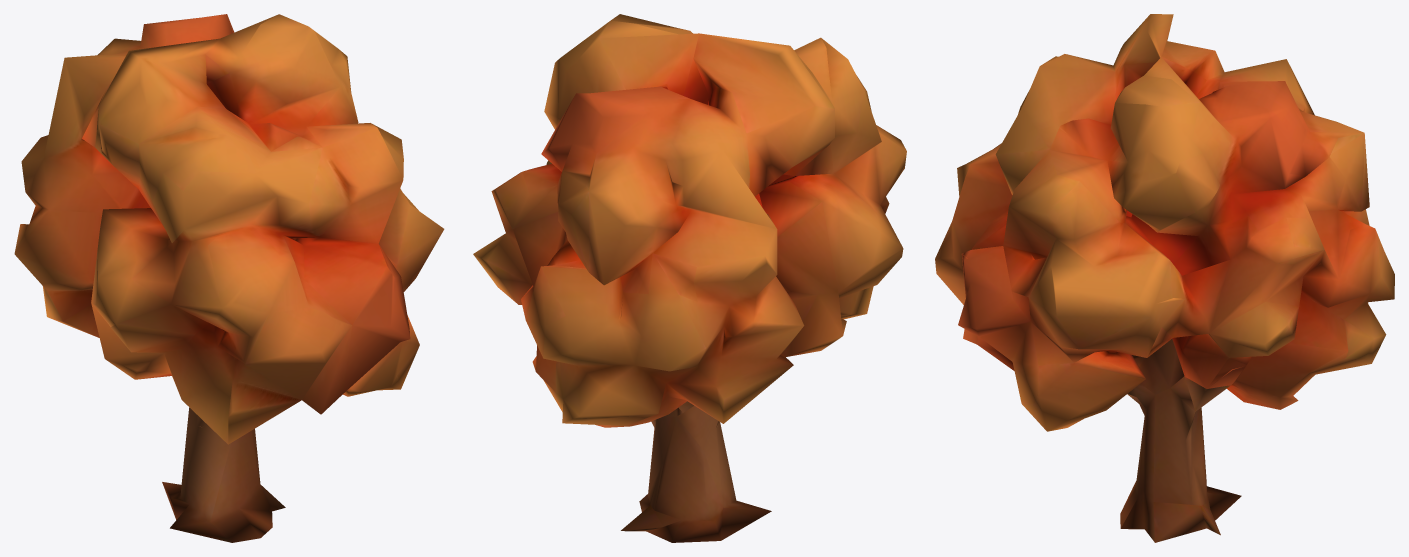
Rendered from autumn-tree.glb.
3 renders of one model, left to right at view 1: azimuth 30°, elevation 25°; view 2: azimuth 150°, elevation 25°; view 3: azimuth 270°, elevation 25°, orthographic. The views are drawn at different scales.
Visible parts, largest first — view 1: tripo_node_c438fcd0-cafa-4789-8174-7b9a587e1af5; view 2: tripo_node_c438fcd0-cafa-4789-8174-7b9a587e1af5; view 3: tripo_node_c438fcd0-cafa-4789-8174-7b9a587e1af5.
Boxes of the visible parts, box(x1,y1,x2,y2) form: tripo_node_c438fcd0-cafa-4789-8174-7b9a587e1af5: box(14, 14, 444, 542); tripo_node_c438fcd0-cafa-4789-8174-7b9a587e1af5: box(473, 14, 906, 542); tripo_node_c438fcd0-cafa-4789-8174-7b9a587e1af5: box(935, 14, 1394, 542).
Size of the model in its own units: 0.6901 by 1 by 0.8921.
1 material, 1 textured.
